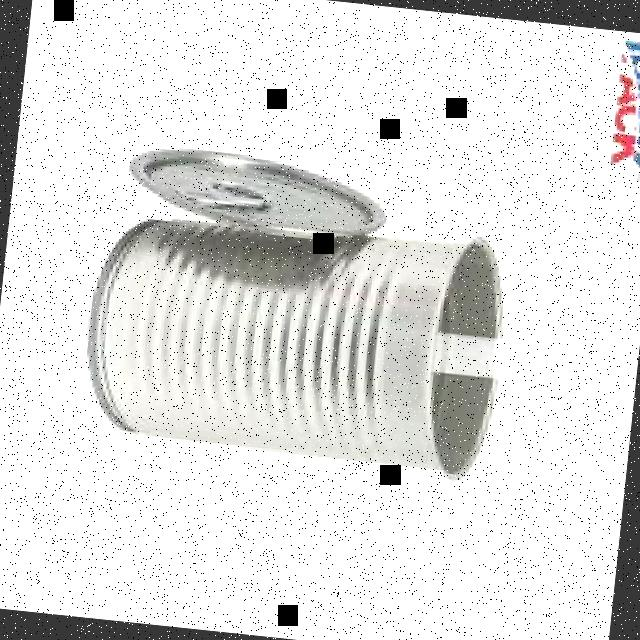can: (72, 195, 517, 488), (120, 136, 398, 250)
